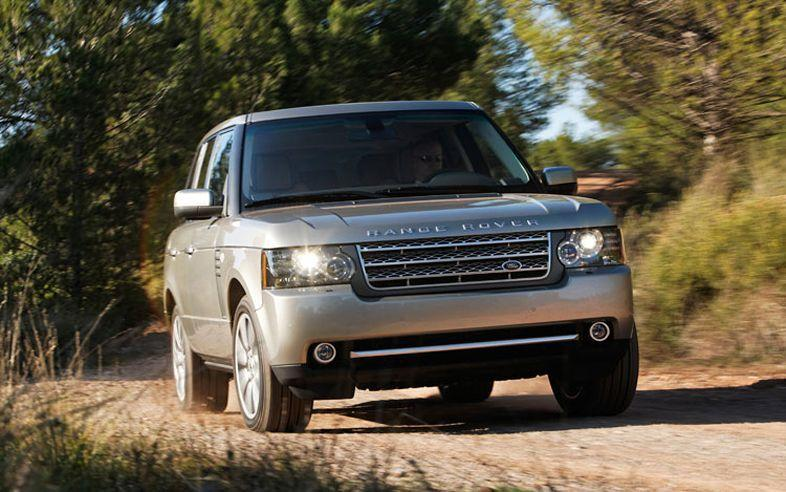range rover: (359, 212, 556, 246)
